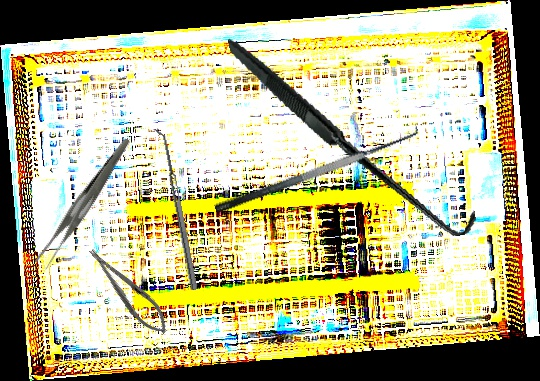Dressing Forceps: (9, 138, 161, 272)
Hook Surgical: (227, 1, 479, 270)
Needle Holder: (80, 240, 177, 342)
Spatula Surgical: (208, 116, 423, 216), (153, 127, 198, 292)
